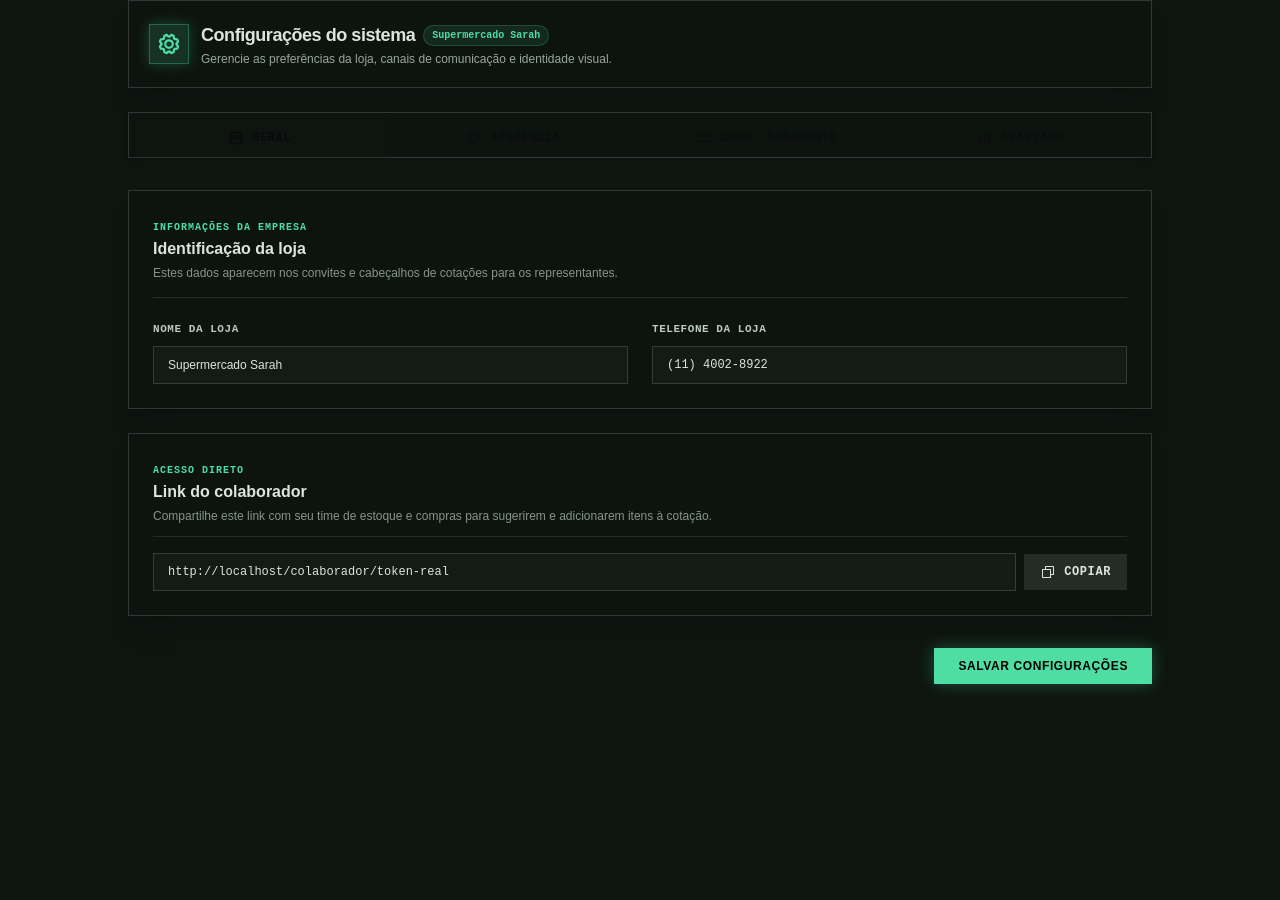
aba Cond. Pagamento mostra o catálogo e não dispara o "Salvar configurações" da aba Geral
Click the tab "Cond. Pagamento" at {"x": 767, "y": 138}, box [642,120,892,156]
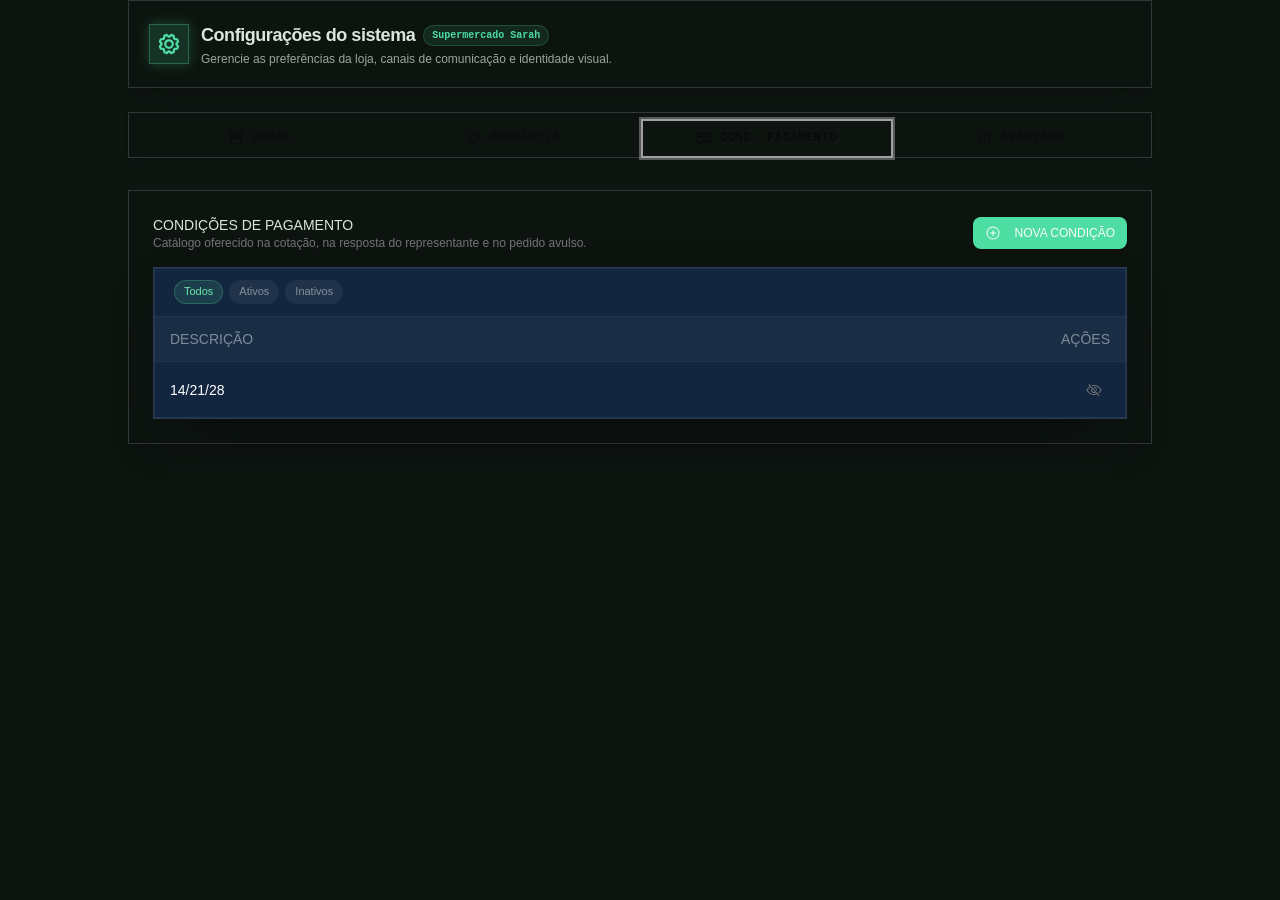
Now the text "14/21/28" is shown, box [154,361,725,418]
Click the button "Nova Condição" at {"x": 1050, "y": 233}, box [972,217,1127,249]
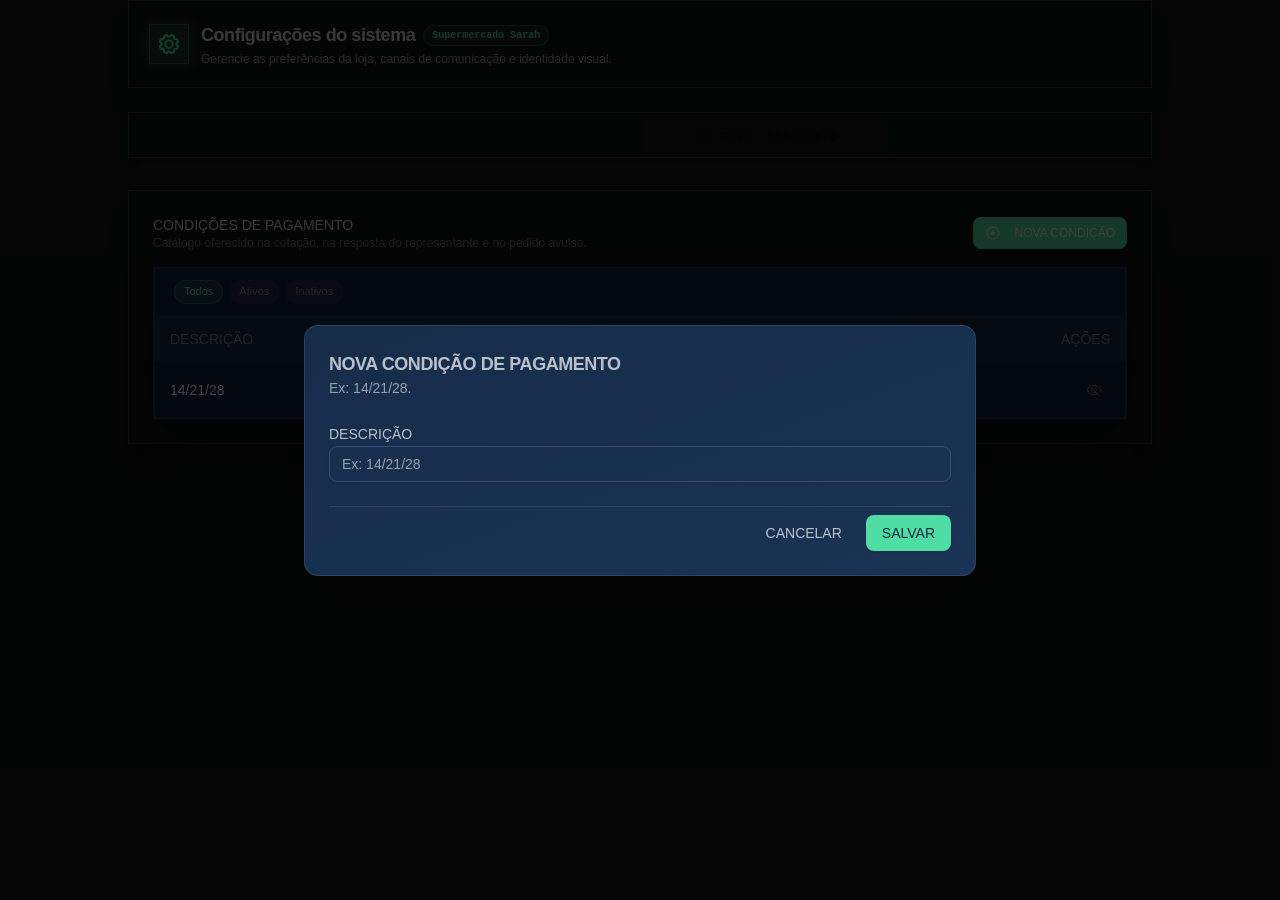
Now the dialog is shown, box [304,324,976,576]
